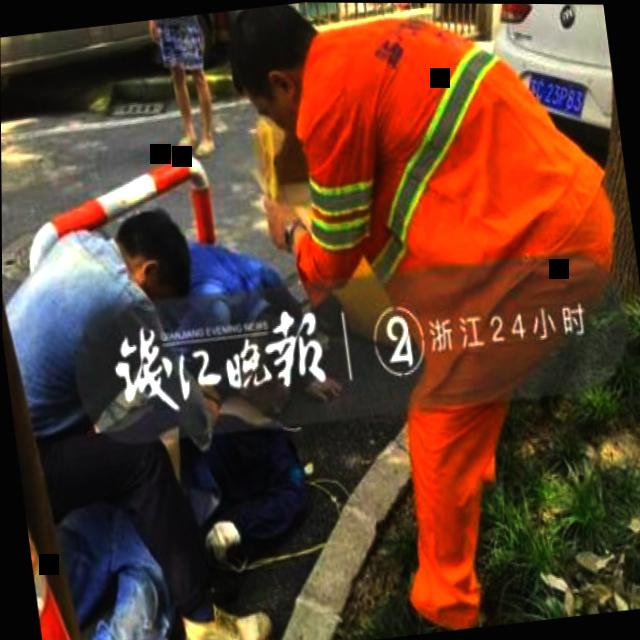Fall-Detected: (128, 206, 360, 594)
